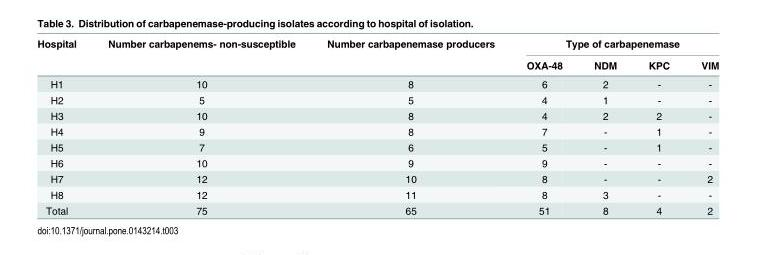table: (36, 37, 718, 215)
table column: (91, 37, 310, 215), (310, 37, 509, 215), (509, 37, 577, 215), (36, 37, 91, 215), (577, 37, 631, 215), (631, 37, 684, 215), (684, 37, 718, 215)
table column header: (36, 37, 718, 74)
table row: (36, 53, 718, 74), (36, 74, 718, 91), (36, 37, 718, 53), (36, 91, 718, 107), (36, 107, 718, 123), (36, 123, 718, 139), (36, 154, 718, 170), (36, 170, 718, 186), (36, 186, 718, 202), (36, 139, 718, 154), (36, 202, 718, 215)
table spanning cell: (91, 37, 310, 74), (310, 37, 509, 74), (509, 37, 718, 53), (36, 37, 91, 74)
